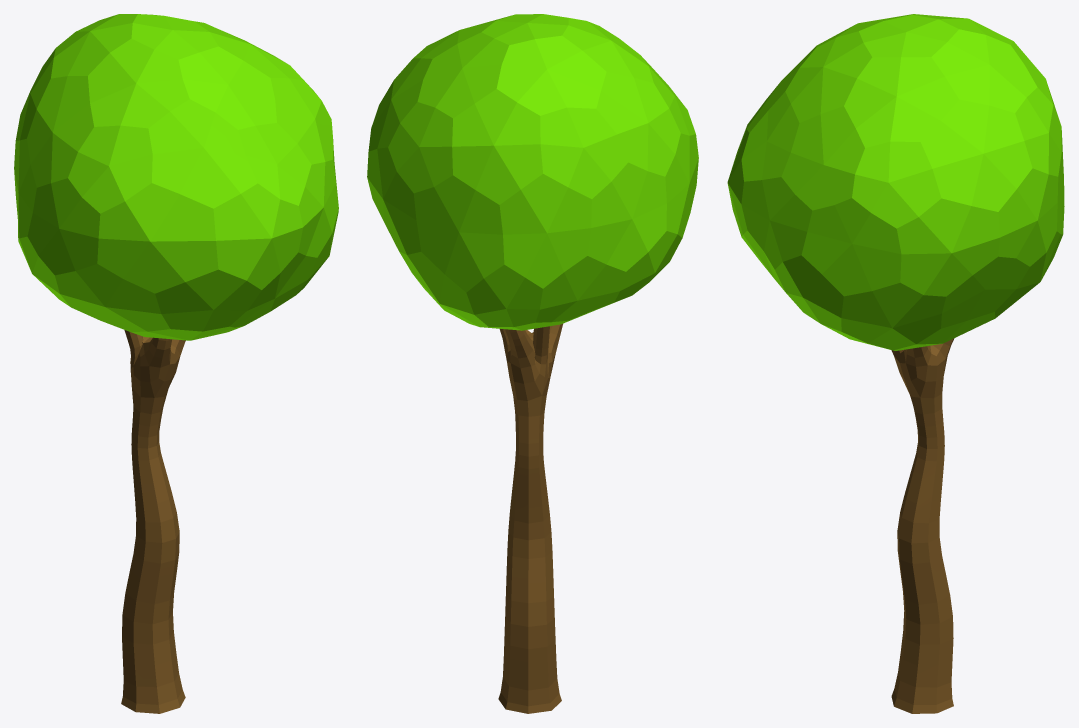
Rendered from PalloPuu_singleobject.fbx.
3 views of the same model, side by side, from view 1: azimuth 30°, elevation 25°; view 2: azimuth 150°, elevation 25°; view 3: azimuth 270°, elevation 25° (orthographic).
Visible parts, largest first — view 1: Icosphere; view 2: Icosphere; view 3: Icosphere.
Boxes of the visible parts, box(x1,y1,x2,y2) form: Icosphere: box(14, 14, 338, 713); Icosphere: box(367, 14, 698, 713); Icosphere: box(727, 14, 1064, 713).
Bounding box in the file's own units: 466 × 1051 × 473.
